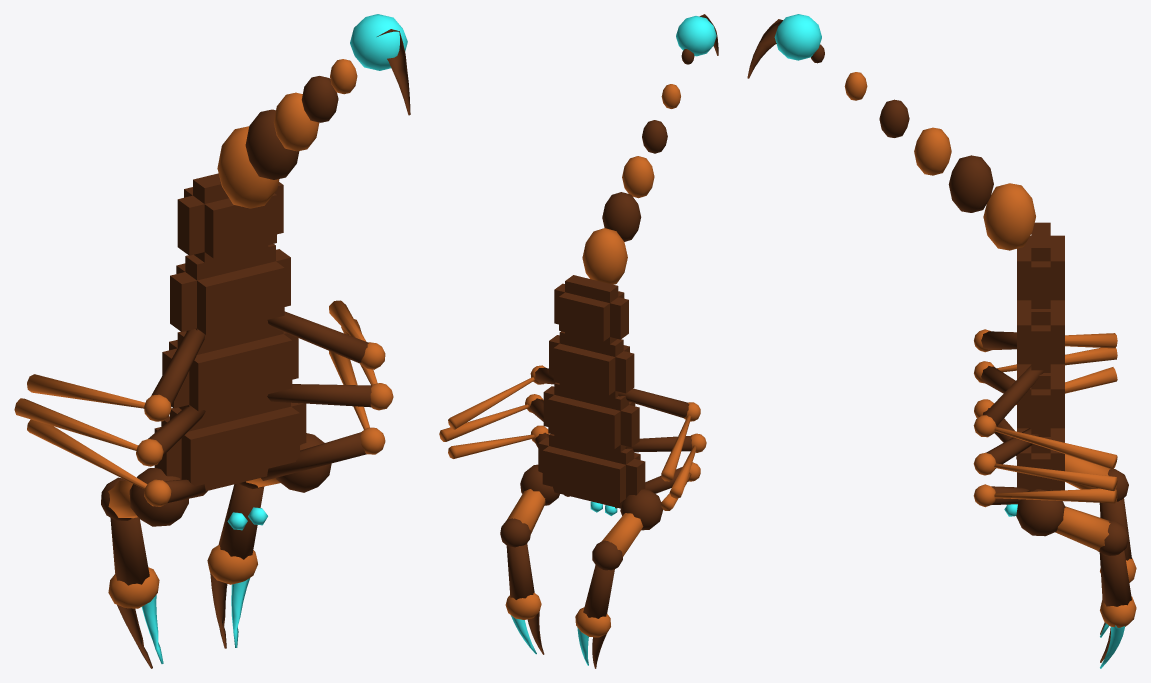
Rendered from shooter-scorpion.glb.
3 renders of one model, left to right at view 1: azimuth 30°, elevation 25°; view 2: azimuth 150°, elevation 25°; view 3: azimuth 270°, elevation 25°, orthographic. The views are drawn at different scales.
Parts seen in each view (by area): view 1: Body Mesh, ClawR Elbow Mesh, ClawL Elbow Mesh, Tail 5 Mesh, Tail 0 Mesh, ClawR Mesh, Tail 1 Mesh, LegA 5 Mesh, LegB 3 Mesh, LegA 1 Mesh, Tail 2 Mesh, LegA 2 Down Mesh (+13 smaller); view 2: Body Mesh, ClawL Elbow Mesh, ClawR Elbow Mesh, ClawR Mesh, Tail 0 Mesh, ClawL Mesh, Tail 5 Mesh, Tail 1 Mesh, Tail 2 Mesh, LegB 4 Mesh, LegA 5 Down Mesh, LegB 3 Down Mesh (+5 smaller); view 3: Body Mesh, ClawL Elbow Mesh, ClawL Mesh, Tail 0 Mesh, Tail 5 Mesh, Tail 1 Mesh, Tail 2 Mesh, LegA 5 Down Mesh, LegA 1 Down Mesh, ClawR Elbow Mesh, LegB 3 Down Mesh, LegA 5 Mesh (+7 smaller).
Part boxes in pixels (<box>): Body Mesh: <box>154,173,306,490</box>; ClawR Elbow Mesh: <box>101,477,163,668</box>; ClawL Elbow Mesh: <box>207,481,264,648</box>; Tail 5 Mesh: <box>350,14,410,115</box>; Tail 0 Mesh: <box>217,126,279,208</box>; ClawR Mesh: <box>108,468,188,526</box>; Tail 1 Mesh: <box>245,109,299,179</box>; LegA 5 Mesh: <box>267,311,368,363</box>; LegB 3 Mesh: <box>267,384,372,407</box>; LegA 1 Mesh: <box>261,432,366,480</box>; Tail 2 Mesh: <box>273,92,319,151</box>; LegA 2 Down Mesh: <box>14,398,137,450</box>; Body Mesh: <box>538,275,645,508</box>; ClawL Elbow Mesh: <box>500,518,544,654</box>; ClawR Elbow Mesh: <box>575,540,622,668</box>; ClawR Mesh: <box>602,489,663,556</box>; Tail 0 Mesh: <box>582,228,627,284</box>; ClawL Mesh: <box>507,464,559,533</box>; Tail 5 Mesh: <box>676,14,718,64</box>; Tail 1 Mesh: <box>602,192,641,241</box>; Tail 2 Mesh: <box>622,156,654,198</box>; LegB 4 Mesh: <box>618,388,689,418</box>; LegA 5 Down Mesh: <box>448,377,534,429</box>; LegB 3 Down Mesh: <box>439,404,528,441</box>; Body Mesh: <box>1017,222,1064,491</box>; ClawL Elbow Mesh: <box>1098,521,1136,668</box>; ClawL Mesh: <box>1016,489,1110,551</box>; Tail 0 Mesh: <box>983,183,1035,250</box>; Tail 5 Mesh: <box>747,14,824,78</box>; Tail 1 Mesh: <box>948,155,993,212</box>; Tail 2 Mesh: <box>914,127,951,175</box>; LegA 5 Down Mesh: <box>994,427,1117,469</box>; LegA 1 Down Mesh: <box>994,488,1117,503</box>; ClawR Elbow Mesh: <box>1099,469,1136,637</box>; LegB 3 Down Mesh: <box>994,463,1117,490</box>; LegA 5 Mesh: <box>983,365,1043,426</box>.
Bounding box in the file's own units: 1.36 × 2.92 × 1.62.
Materials: 2 (2 with a texture image).
